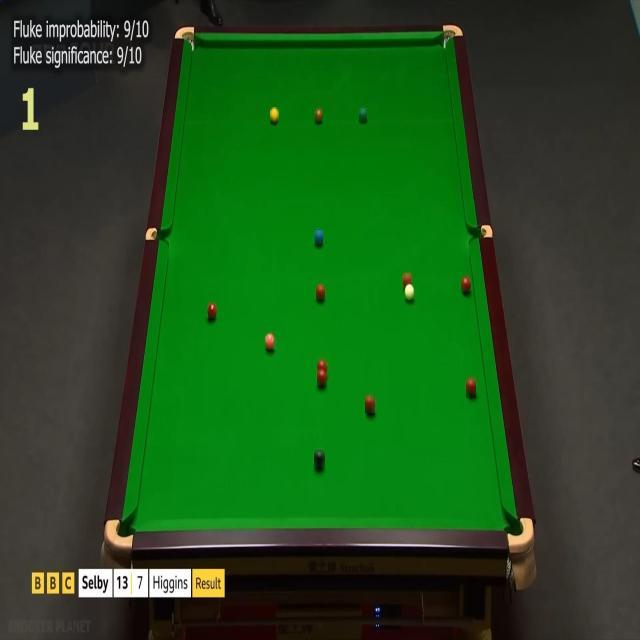Ball: (466, 378, 476, 398), (314, 450, 325, 468), (207, 302, 217, 320), (366, 396, 376, 414), (266, 333, 276, 350), (461, 276, 471, 293), (317, 369, 327, 386), (404, 284, 414, 300), (316, 284, 325, 300), (270, 108, 279, 124), (318, 359, 328, 373), (359, 108, 367, 122), (315, 230, 323, 244), (314, 109, 322, 122), (403, 273, 411, 285)
